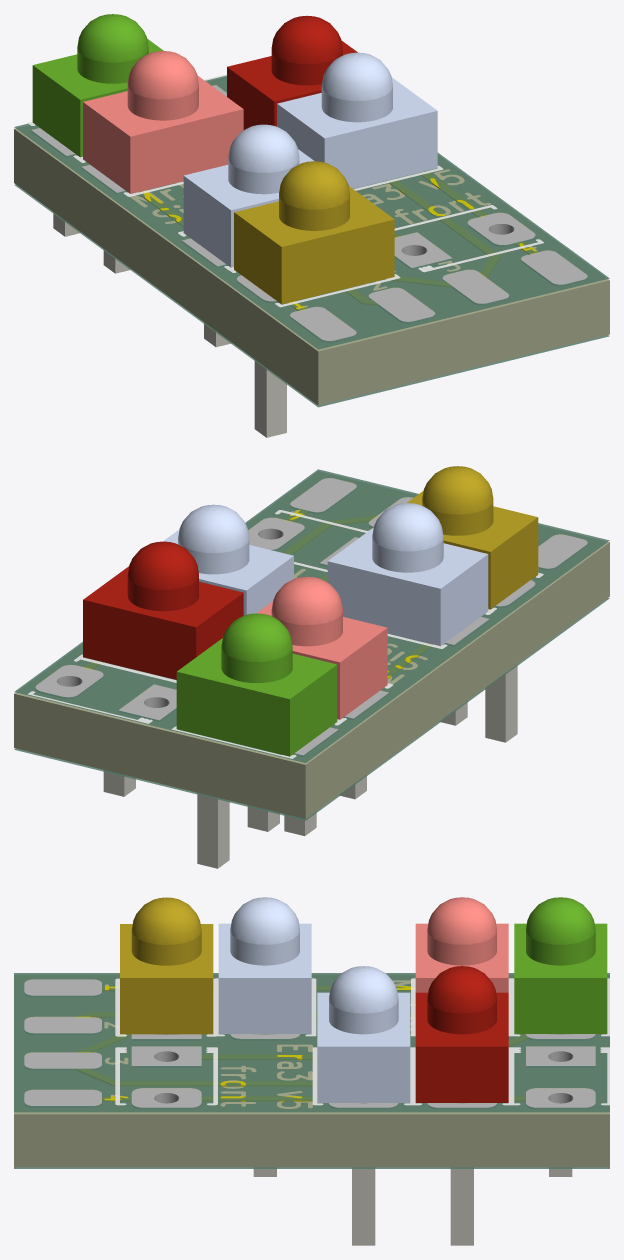
File: MrJ-DB-Era3-prod-exit-Hp0+Sh1.glb
3 renders of one model, top to bottom at view 1: azimuth 30°, elevation 25°; view 2: azimuth 150°, elevation 25°; view 3: azimuth 270°, elevation 25°, orthographic. The views are drawn at different scales.
Parts seen in each view (by area): view 1: =>[0:1:1:17], =>[0:1:1:11] (×2), =>[0:1:1:15], =>[0:1:1:9], =>[0:1:1:7], =>[0:1:1:13], =>[0:1:1:5], =>[0:1:1:3], =>[0:1:1:12], =>[0:1:1:14], =>[0:1:1:16]; view 2: =>[0:1:1:17], =>[0:1:1:11] (×2), =>[0:1:1:5], =>[0:1:1:15], =>[0:1:1:3], =>[0:1:1:9], =>[0:1:1:7], =>[0:1:1:13], =>[0:1:1:14], =>[0:1:1:16], =>[0:1:1:12]; view 3: =>[0:1:1:17], =>[0:1:1:15], =>[0:1:1:11] (×2), =>[0:1:1:3], =>[0:1:1:13], =>[0:1:1:5], =>[0:1:1:9], =>[0:1:1:7], =>[0:1:1:14], =>[0:1:1:12], =>[0:1:1:16].
Boxes of the visible parts, x1,y1,x2,y2 form: =>[0:1:1:17]: [14, 77, 609, 405]; =>[0:1:1:11] (×2): [183, 52, 437, 347]; =>[0:1:1:15]: [14, 75, 609, 349]; =>[0:1:1:9]: [234, 161, 394, 437]; =>[0:1:1:7]: [83, 51, 243, 273]; =>[0:1:1:13]: [31, 85, 587, 341]; =>[0:1:1:5]: [32, 14, 163, 236]; =>[0:1:1:3]: [227, 15, 357, 129]; =>[0:1:1:12]: [140, 173, 537, 310]; =>[0:1:1:14]: [27, 74, 543, 307]; =>[0:1:1:16]: [14, 184, 609, 407]; =>[0:1:1:17]: [14, 471, 609, 818]; =>[0:1:1:11] (×2): [163, 503, 488, 725]; =>[0:1:1:5]: [176, 613, 337, 868]; =>[0:1:1:15]: [14, 469, 609, 762]; =>[0:1:1:3]: [83, 541, 243, 796]; =>[0:1:1:9]: [407, 466, 538, 742]; =>[0:1:1:7]: [247, 576, 387, 831]; =>[0:1:1:13]: [35, 478, 587, 756]; =>[0:1:1:14]: [28, 510, 543, 758]; =>[0:1:1:16]: [14, 598, 609, 820]; =>[0:1:1:12]: [84, 509, 538, 678]; =>[0:1:1:17]: [14, 975, 609, 1167]; =>[0:1:1:15]: [14, 973, 609, 1112]; =>[0:1:1:11] (×2): [218, 897, 410, 1245]; =>[0:1:1:3]: [415, 966, 508, 1245]; =>[0:1:1:13]: [24, 979, 595, 1108]; =>[0:1:1:5]: [514, 897, 607, 1176]; =>[0:1:1:9]: [120, 897, 213, 1034]; =>[0:1:1:7]: [415, 897, 508, 992]; =>[0:1:1:14]: [115, 978, 609, 1105]; =>[0:1:1:12]: [76, 986, 528, 1101]; =>[0:1:1:16]: [14, 1167, 609, 1168].
Bounding box in the file's own units: 0.00851 × 0.0071 × 0.0154.
